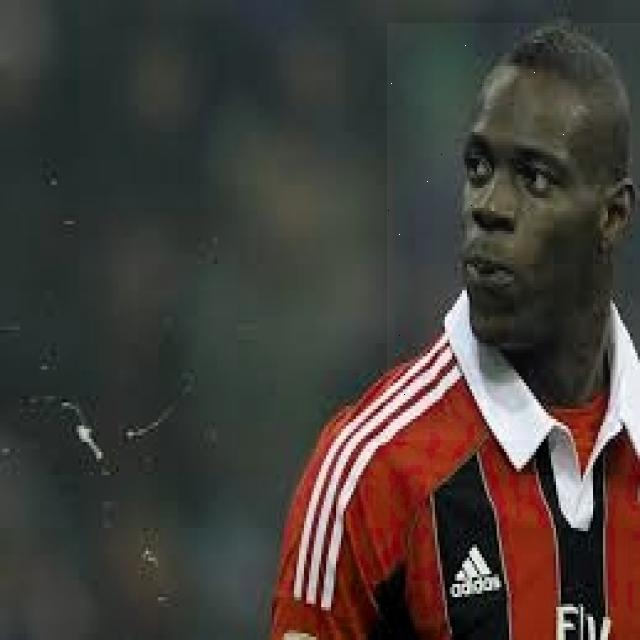Spitting: (387, 23, 640, 440)
